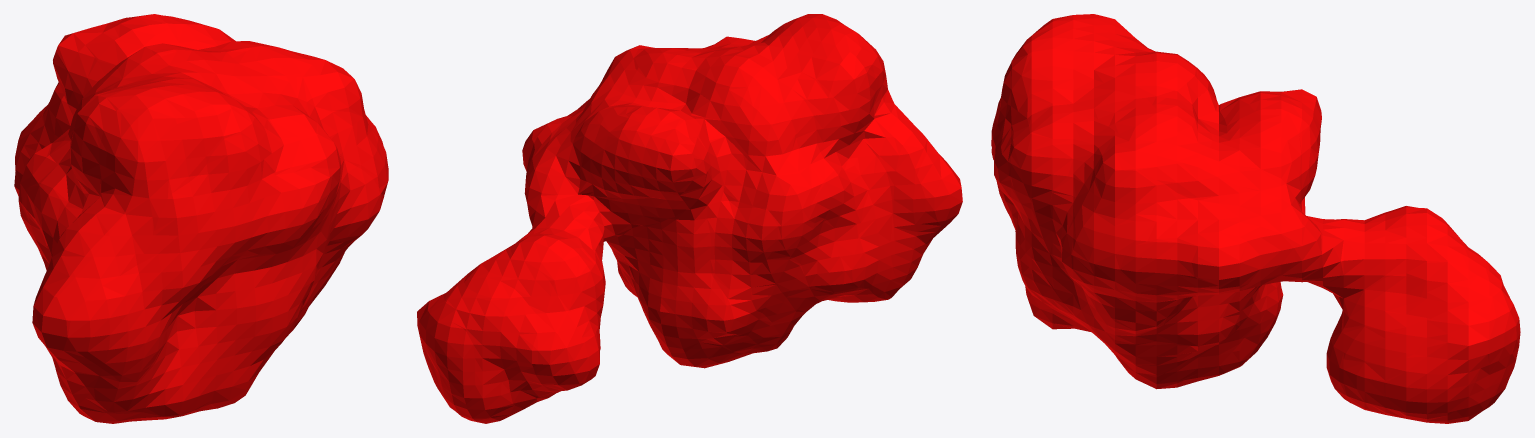
Rendered from yjhU_coarse.dae.
The picture shows the model from 3 angles, left to right: view 1: azimuth 30°, elevation 25°; view 2: azimuth 150°, elevation 25°; view 3: azimuth 270°, elevation 25°; orthographic projection. The views are drawn at different scales.
Visible parts, largest first — view 1: yjhU; view 2: yjhU; view 3: yjhU.
Boxes of the visible parts, <box> form: yjhU: <box>14,14,388,423</box>; yjhU: <box>417,14,962,423</box>; yjhU: <box>991,14,1520,423</box>.
Bounding box in the file's own units: 59.02 × 50.53 × 73.8.
